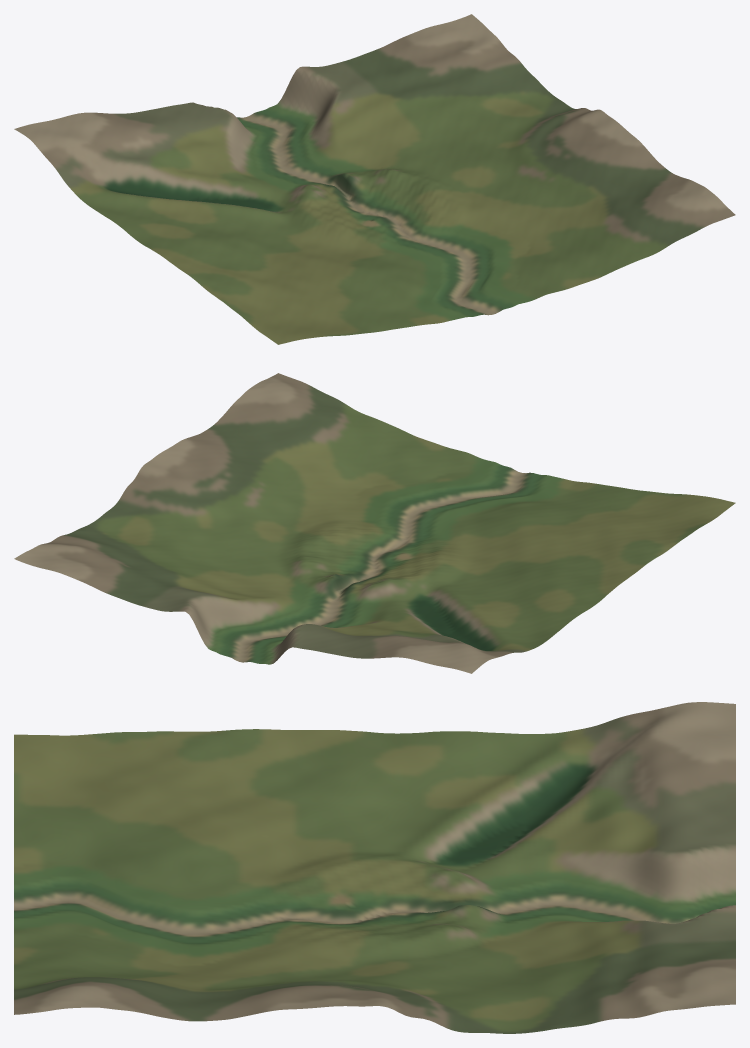
Rendered from catchment-600m-lod1.glb.
3 renders of one model, top to bottom at view 1: azimuth 30°, elevation 25°; view 2: azimuth 150°, elevation 25°; view 3: azimuth 270°, elevation 25°, orthographic. The views are drawn at different scales.
Parts seen in each view (by area): view 1: catchment-600m-lod1; view 2: catchment-600m-lod1; view 3: catchment-600m-lod1.
Boxes of the visible parts, x1,y1,x2,y2 form: catchment-600m-lod1: (14,14,735,344); catchment-600m-lod1: (14,373,735,673); catchment-600m-lod1: (14,702,735,1033).
Size of the model in its own units: 600 by 60.88 by 600.
1 material, 1 textured.
